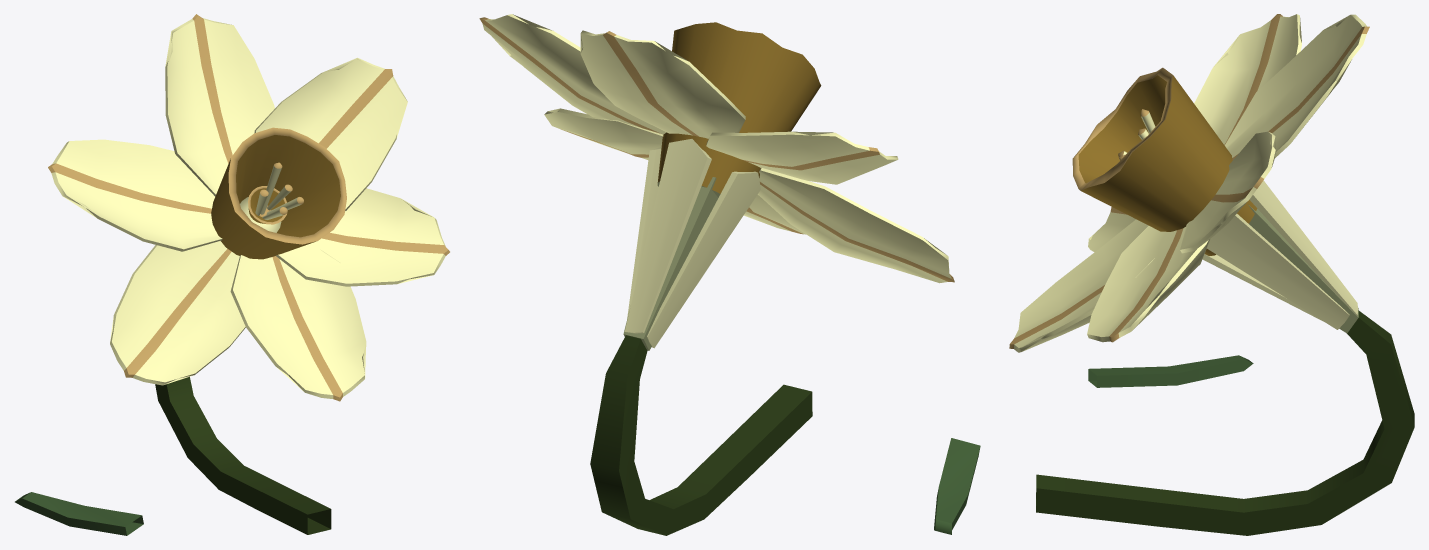
3 renders of one model, left to right at view 1: azimuth 30°, elevation 25°; view 2: azimuth 150°, elevation 25°; view 3: azimuth 270°, elevation 25°, orthographic. The views are drawn at different scales.
Visible parts, largest first — view 1: a9439cdd; view 2: a9439cdd; view 3: a9439cdd.
Boxes of the visible parts, x1,y1,x2,y2 form: a9439cdd: (15,14,449,535); a9439cdd: (479,14,980,535); a9439cdd: (1009,14,1414,535).
Bounding box in the file's own units: 0.0912 × 0.0973 × 0.0697.
